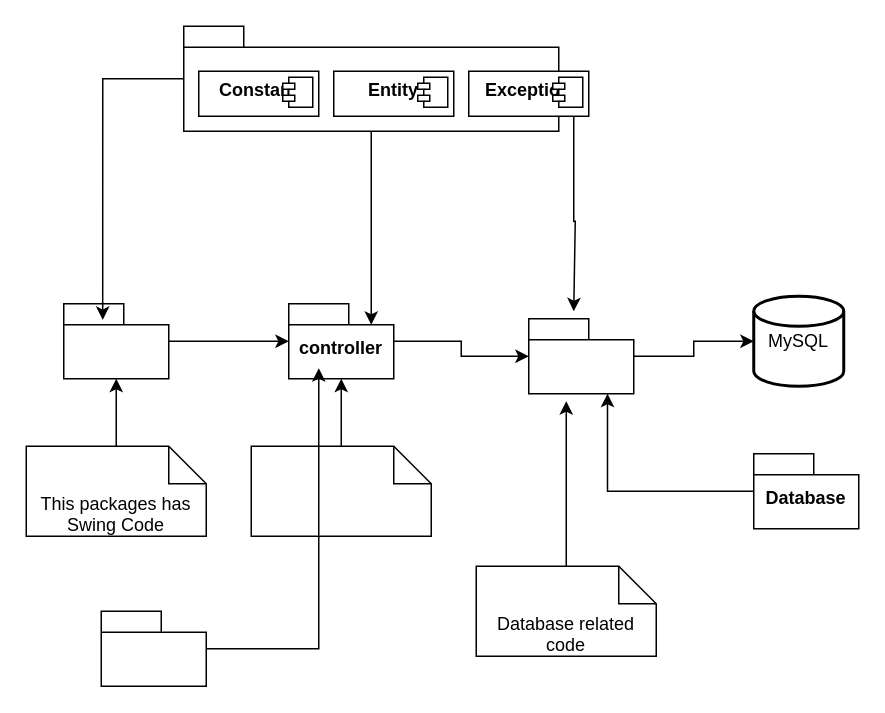
Some shapes in this 885 by 713 pixel diagram are drawn without their labels. The centre of each missing label's shape, as x and y in pixels:
Console: the point at 153,648
Dal: the point at 580,355
This hold the calling part: the point at 340,490
UI: the point at 115,340
